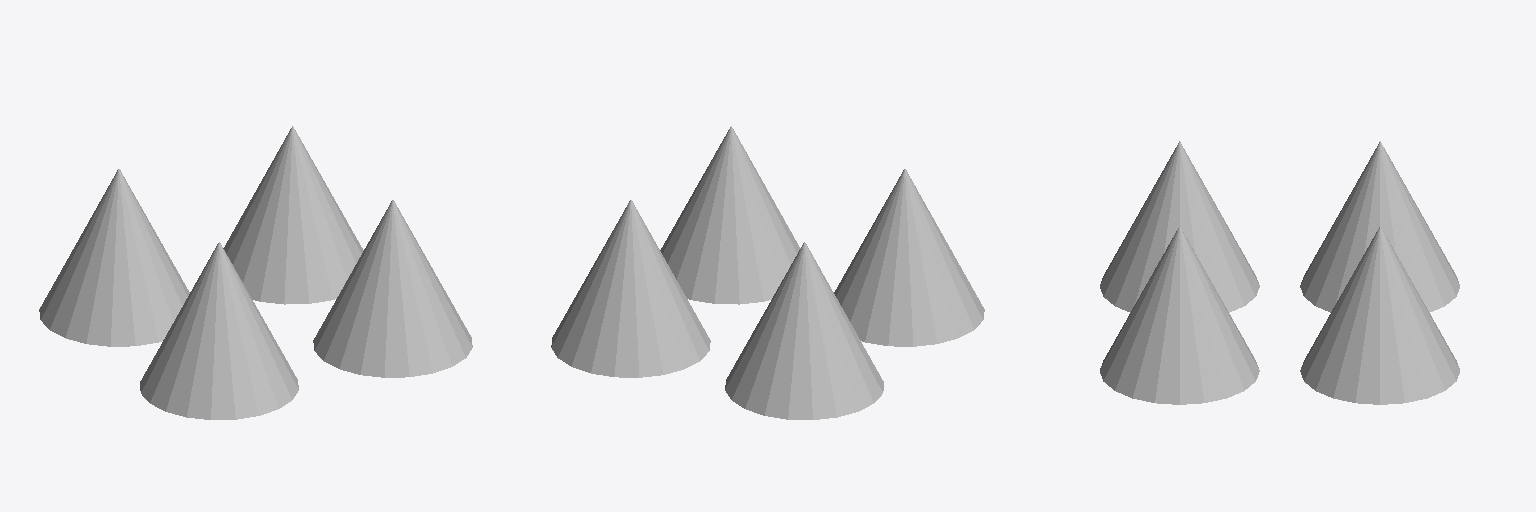
File: obstacle01.obj
The picture shows the model from 3 angles: view 1: azimuth 30°, elevation 25°; view 2: azimuth 150°, elevation 25°; view 3: azimuth 270°, elevation 25°; orthographic projection.
Visible parts, largest first — view 1: obstacle01; view 2: obstacle01; view 3: obstacle01.
Boxes of the visible parts, <box> form: obstacle01: <box>39,126,472,419</box>; obstacle01: <box>551,126,984,419</box>; obstacle01: <box>1100,141,1459,404</box>.
Bounding box in the file's own units: 1.8 × 0.8 × 1.8.